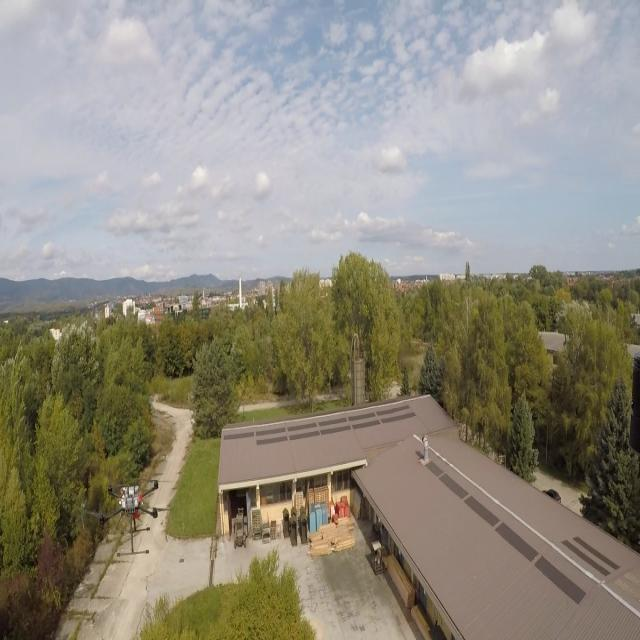UAV: (92, 471, 170, 562)
